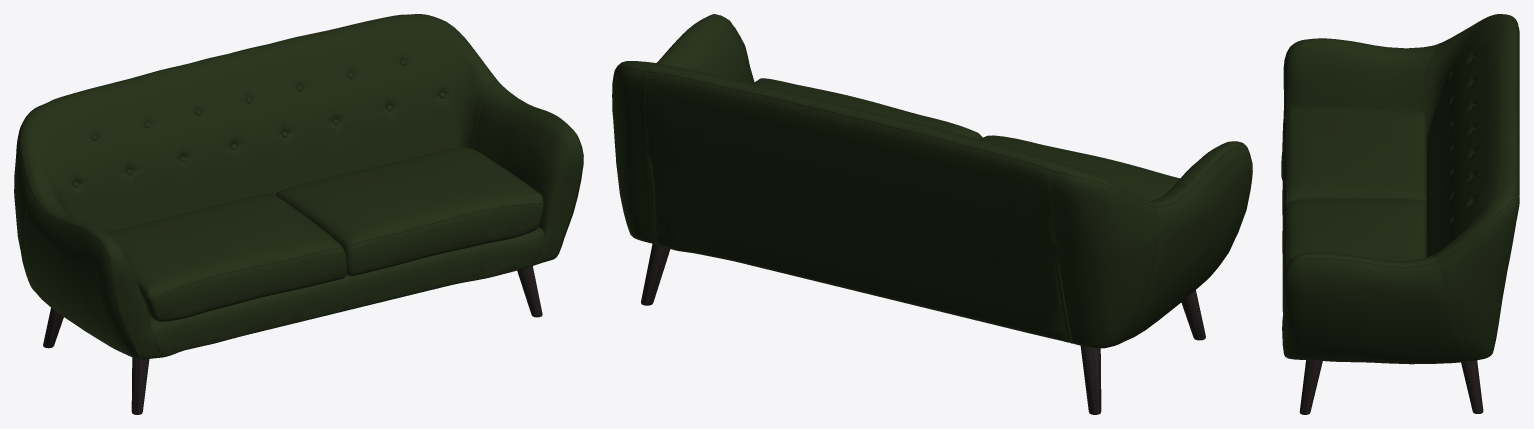
File: B07VLFWG25.glb
The picture shows the model from 3 angles, left to right: view 1: azimuth 30°, elevation 25°; view 2: azimuth 150°, elevation 25°; view 3: azimuth 270°, elevation 25°; orthographic projection. The views are drawn at different scales.
Visible parts, largest first — view 1: RootNode; view 2: RootNode; view 3: RootNode.
Boxes of the visible parts, bbox=[...] form: RootNode: bbox=[14, 14, 583, 414]; RootNode: bbox=[612, 14, 1252, 414]; RootNode: bbox=[1281, 14, 1519, 414].
Bounding box in the file's own units: 1.84 × 0.8363 × 0.8199.
Materials: 1 (1 with a texture image).
